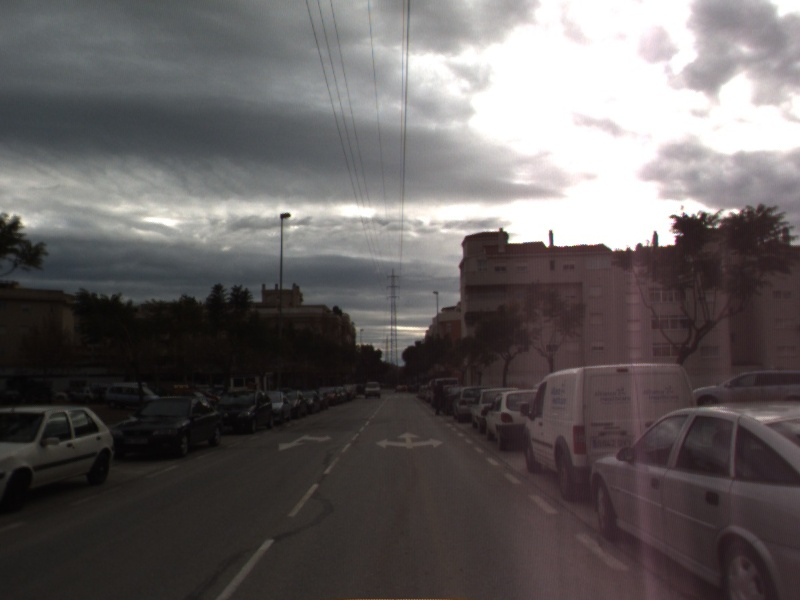STRAIGHT_LEFT_RIGHT: (373, 430, 446, 451)
